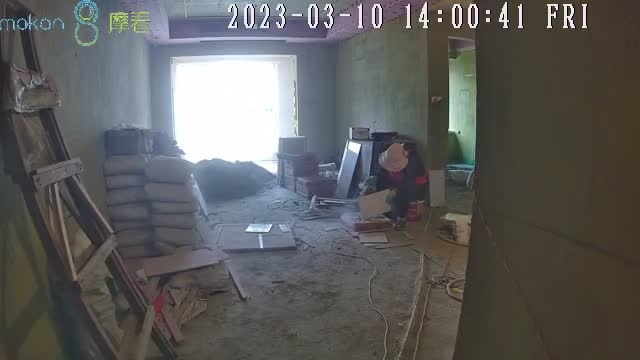people: (377, 142, 427, 229)
window: (175, 60, 285, 160)
